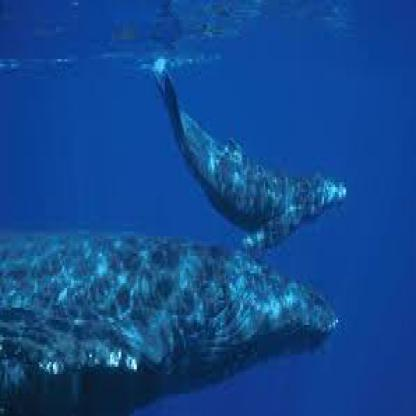blue_whale: (0, 209, 348, 406), (147, 56, 374, 248)
